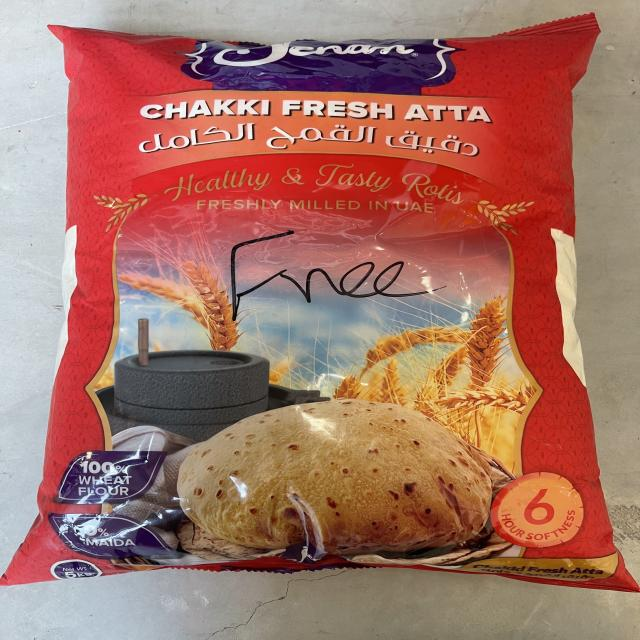object_name: (59, 34, 599, 587)
